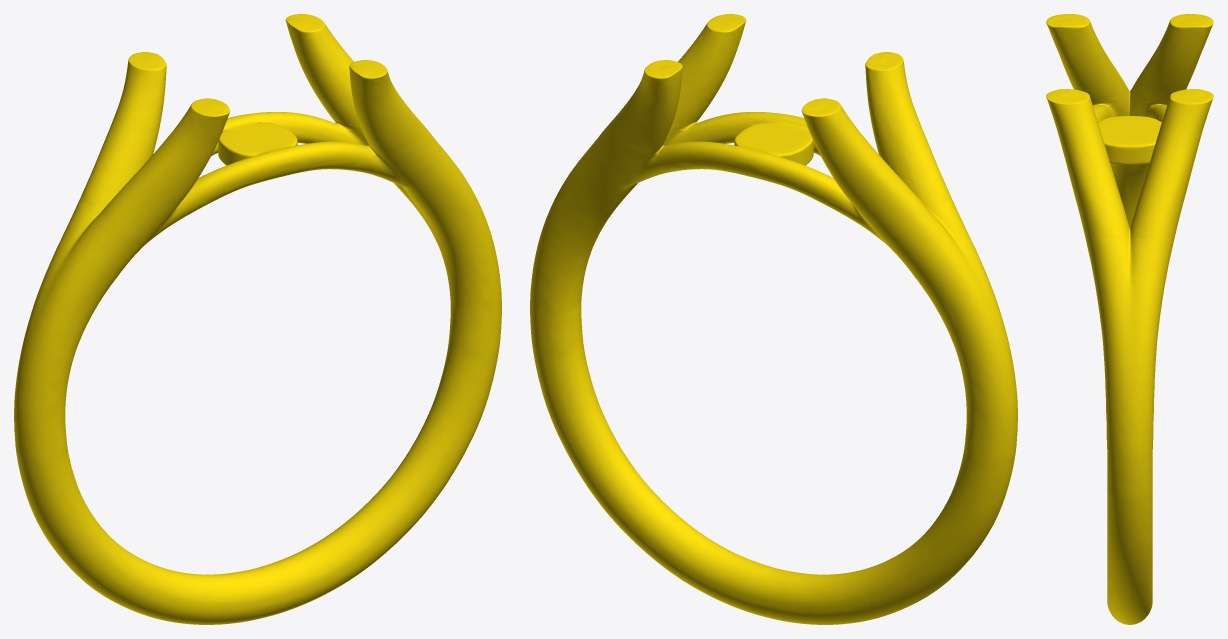
The model's file is Shank_Split_Plain Gold_B_Single Halo_Band.glb.
3 renders of one model, left to right at view 1: azimuth 30°, elevation 25°; view 2: azimuth 150°, elevation 25°; view 3: azimuth 270°, elevation 25°, orthographic. The views are drawn at different scales.
Bounding box in the file's own units: 0.0213 × 0.0233 × 0.00653.
